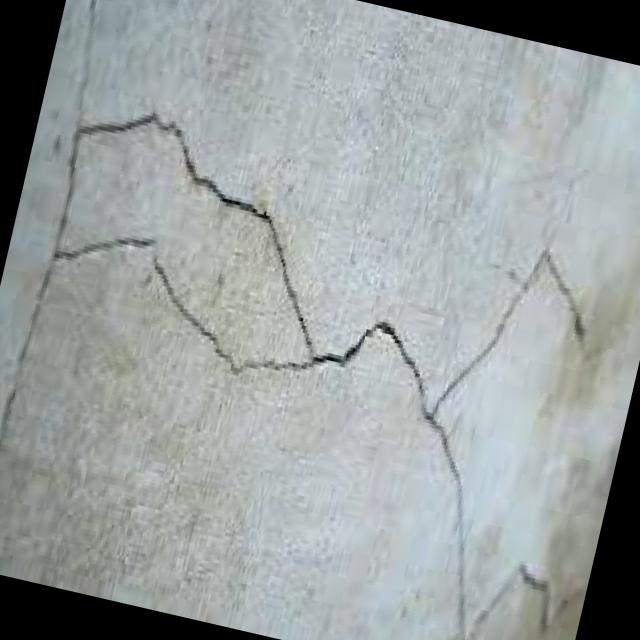crack: (27, 89, 362, 395), (0, 0, 129, 567), (380, 402, 617, 640), (427, 219, 610, 444), (306, 284, 448, 422)
